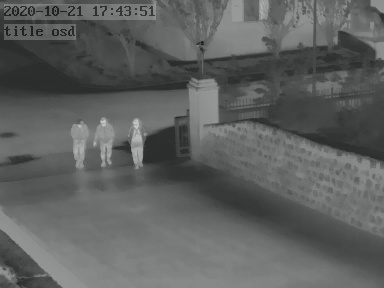person: (95, 113, 115, 168), (127, 115, 147, 169), (70, 117, 88, 166)
